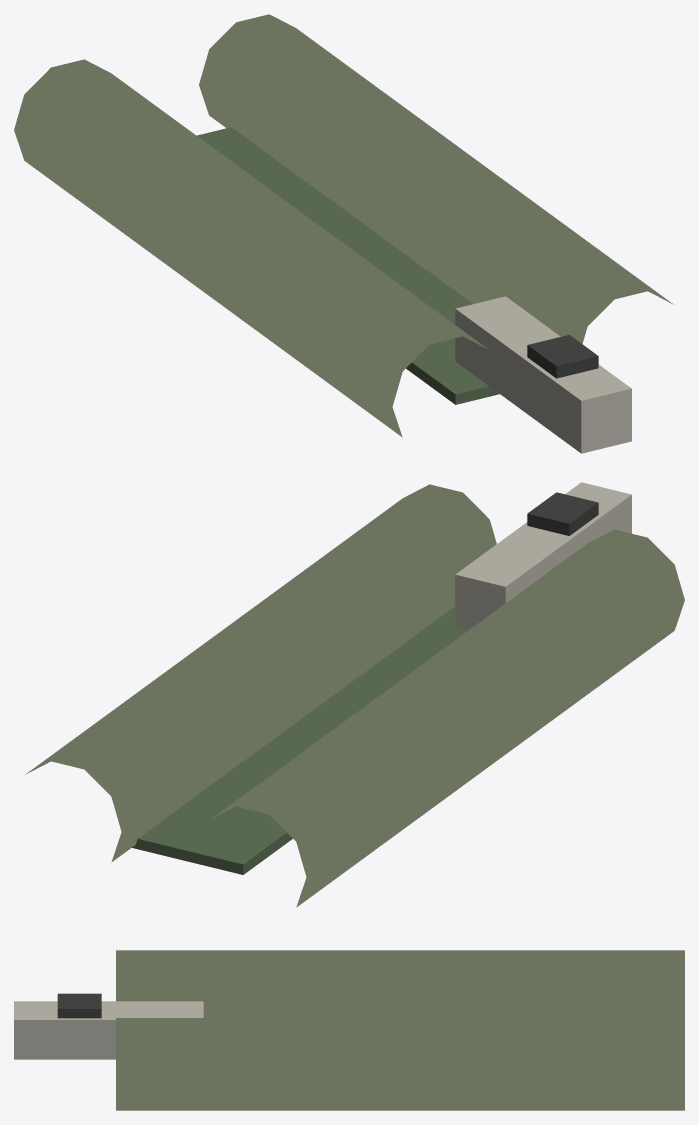
Rendered from v_dinghy.glb.
3 renders of one model, top to bottom at view 1: azimuth 30°, elevation 25°; view 2: azimuth 150°, elevation 25°; view 3: azimuth 270°, elevation 25°, orthographic. The views are drawn at different scales.
Visible parts, largest first — view 1: body; view 2: body; view 3: body.
Part boxes in pixels (box(x1,y1,x2,y2)): body: box(14, 14, 673, 453); body: box(25, 482, 684, 907); body: box(14, 950, 684, 1110).
Size of the model in its own units: 1.74 by 0.6087 by 4.6.
